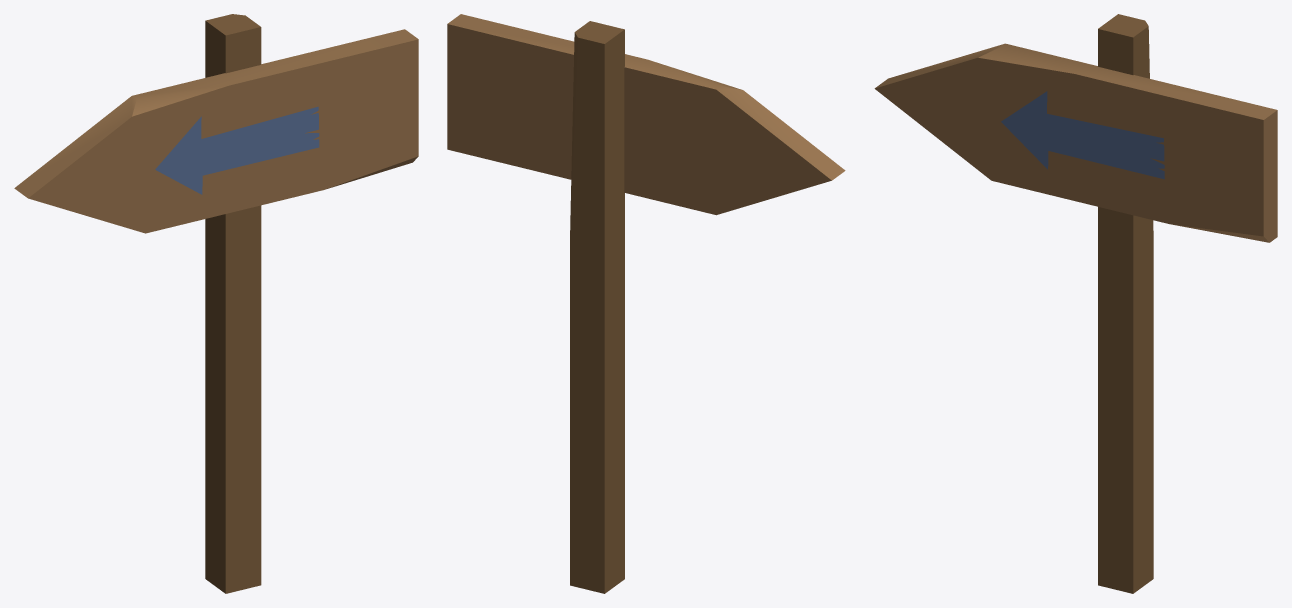
The model's file is Pointer_02.glb.
The picture shows the model from 3 angles, left to right: view 1: azimuth 30°, elevation 25°; view 2: azimuth 150°, elevation 25°; view 3: azimuth 330°, elevation 25°; orthographic projection.
Visible parts, largest first — view 1: Pointer_02; view 2: Pointer_02; view 3: Pointer_02.
Part boxes in pixels (x1,y1,x2,y2): Pointer_02: (14,14,418,593); Pointer_02: (447,14,845,593); Pointer_02: (874,14,1277,593).
Size of the model in its own units: 0.7601 by 1.04 by 0.1136.
1 material, 1 textured.
